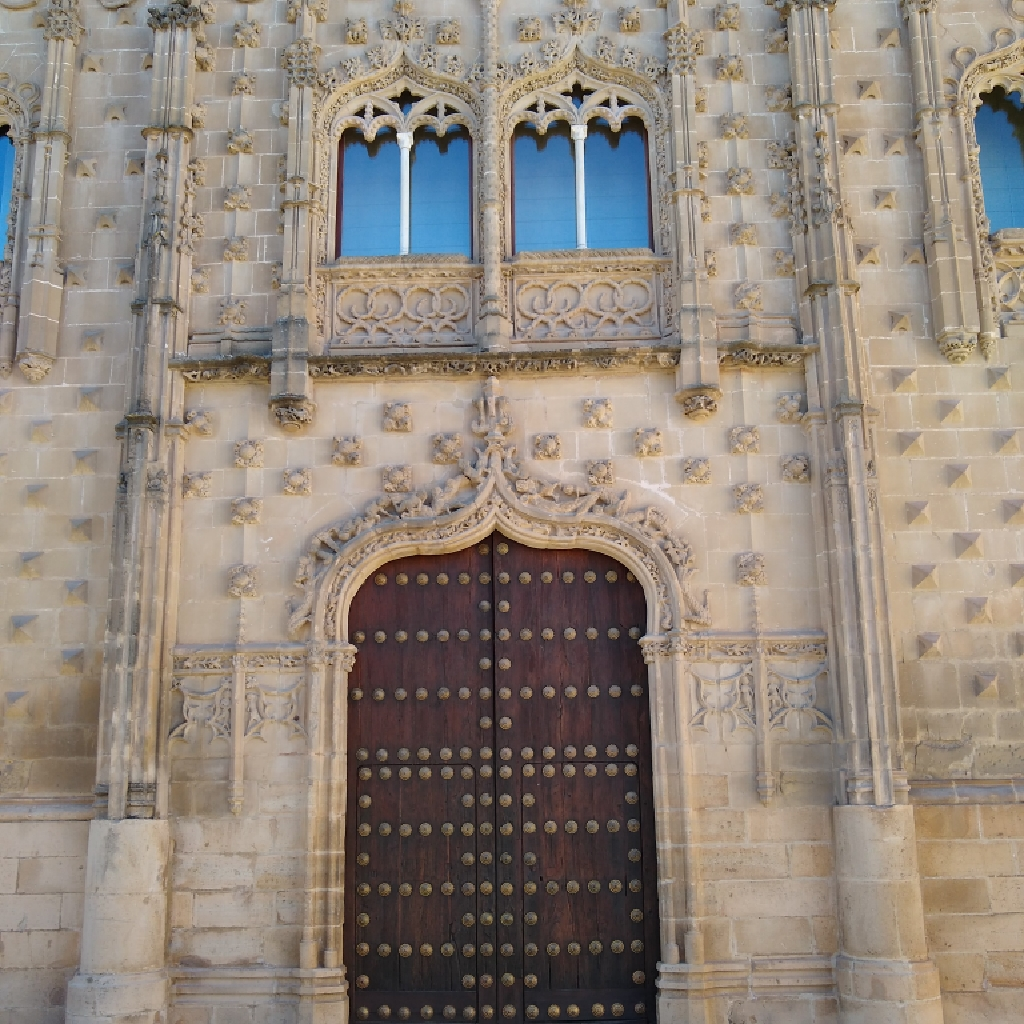arco-conopial: (305, 456, 690, 641), (497, 36, 670, 134), (315, 39, 481, 136)
